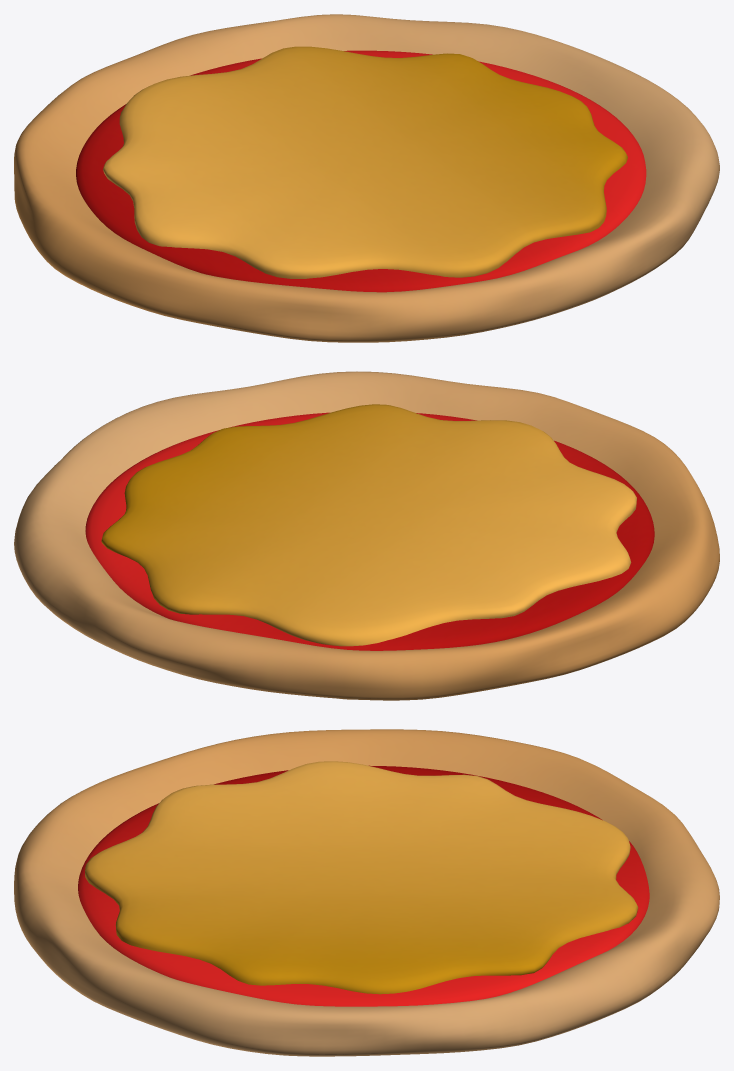
Rendered from PizzaCheese.glb.
The picture shows the model from 3 angles, top to bottom: view 1: azimuth 30°, elevation 25°; view 2: azimuth 150°, elevation 25°; view 3: azimuth 270°, elevation 25°; orthographic projection.
Parts seen in each view (by area): view 1: PizzaCheese; view 2: PizzaCheese; view 3: PizzaCheese.
Boxes of the visible parts, x1,y1,x2,y2 form: PizzaCheese: (14, 14, 719, 342); PizzaCheese: (14, 371, 719, 700); PizzaCheese: (14, 729, 719, 1056).
Size of the model in its own units: 0.4144 by 0.0334 by 0.4109.
1 material, 1 textured.
